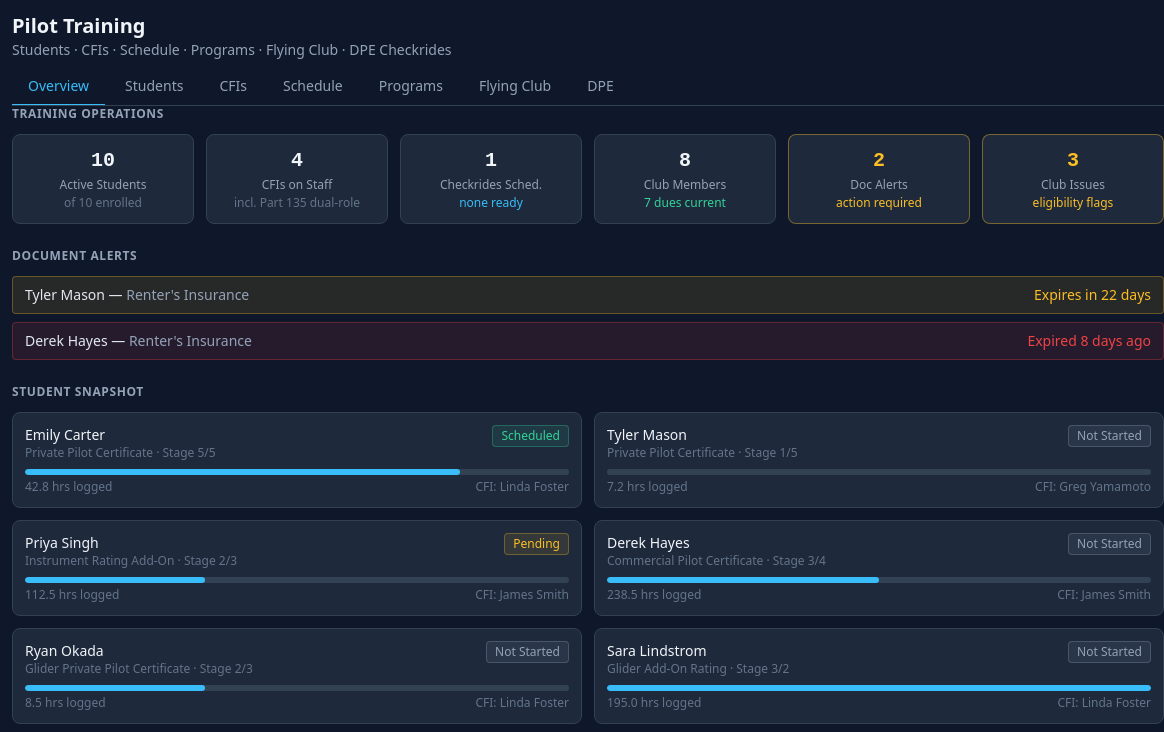
Test: Training component › clicking Flying Club tab shows member roster
Click the button "Flying Club".
click(515, 87)  # box [463, 68, 567, 106]
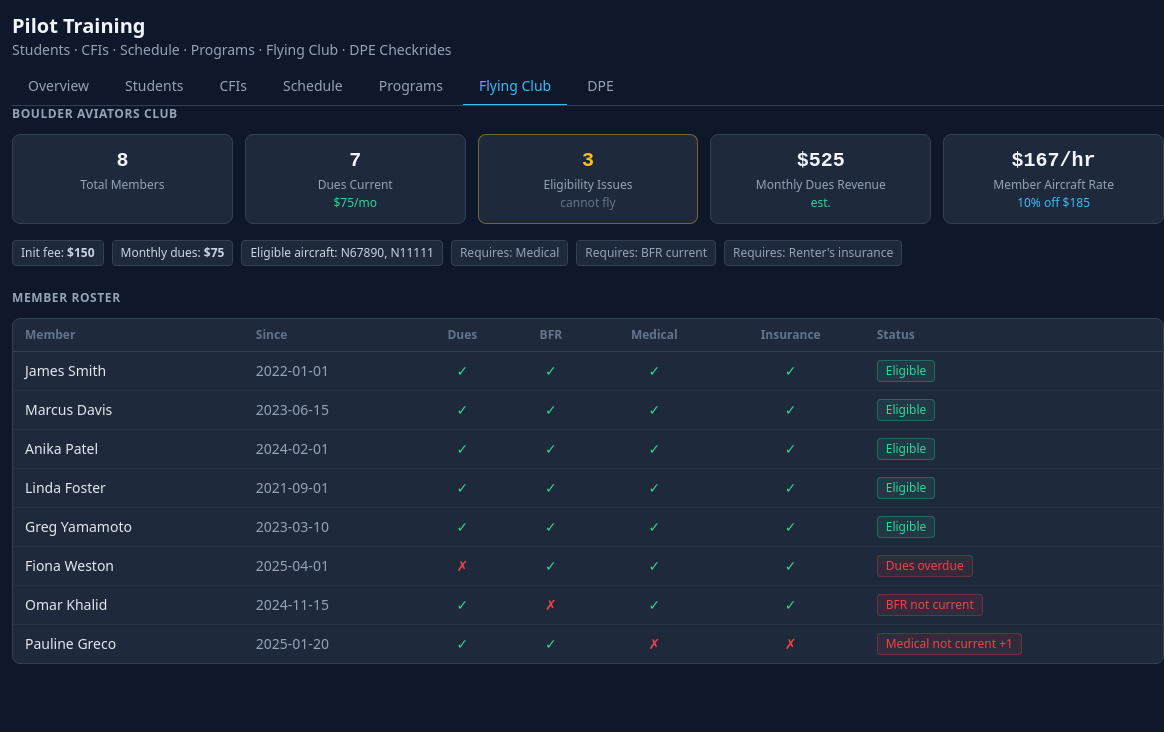
Expected: the heading "Member Roster" is shown, [12, 289, 121, 306]
Expected: the heading "Boulder Aviators Club" is shown, [12, 105, 178, 122]
